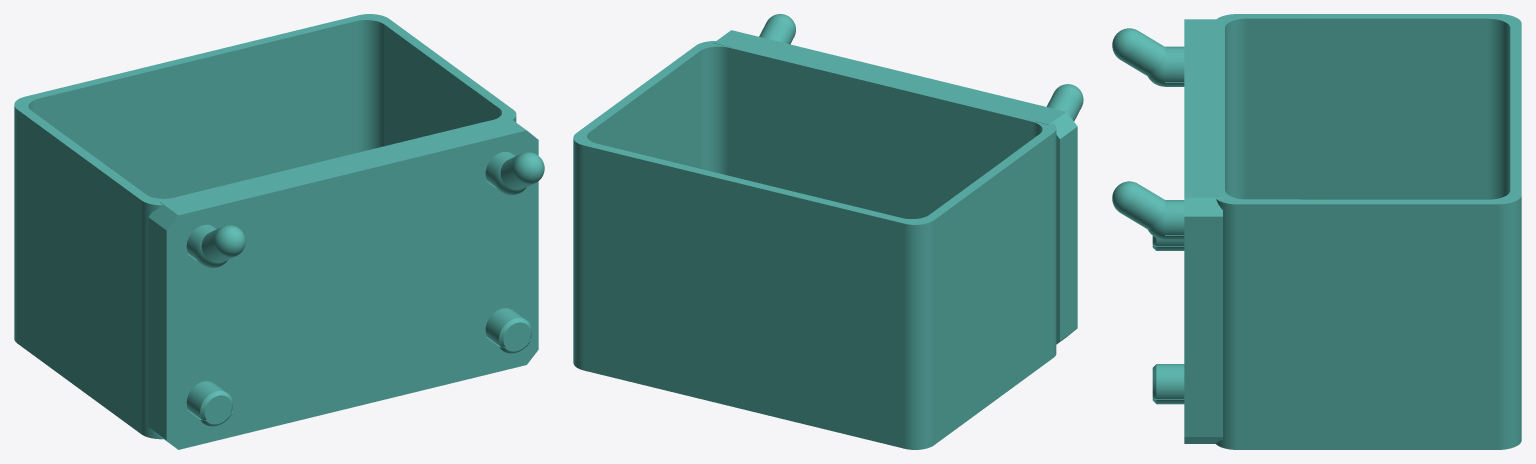
Rendered from part-pegstr-p07__v2__pegstr-p07-60x40-bin__installed__fit-9c7be3cc78.glb.
3 renders of one model, left to right at view 1: azimuth 30°, elevation 25°; view 2: azimuth 150°, elevation 25°; view 3: azimuth 270°, elevation 25°, orthographic. The views are drawn at different scales.
Visible parts, largest first — view 1: Actual holder mesh; view 2: Actual holder mesh; view 3: Actual holder mesh.
Part boxes in pixels (bbox=[...]): Actual holder mesh: bbox=[14, 14, 544, 449]; Actual holder mesh: bbox=[573, 14, 1083, 449]; Actual holder mesh: bbox=[1112, 14, 1521, 449].
Size of the model in its own units: 0.0632 by 0.0384 by 0.0574.
